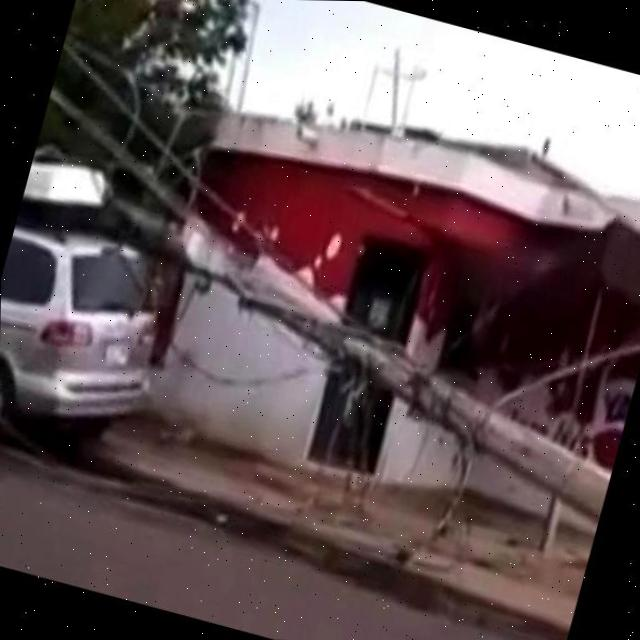Broken Pole: (122, 201, 609, 527)
